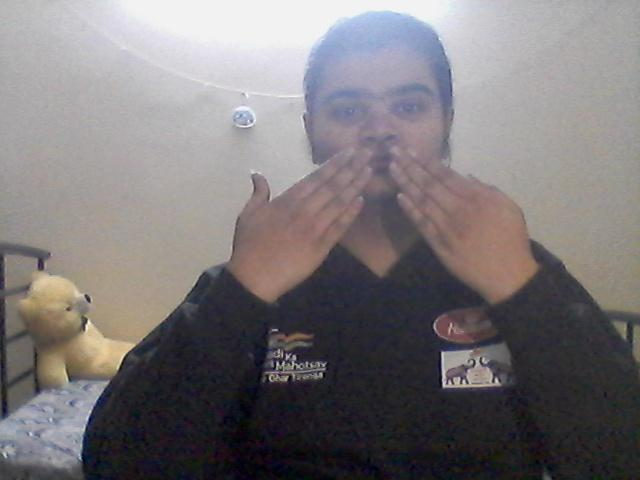thank you: (224, 139, 539, 310)
